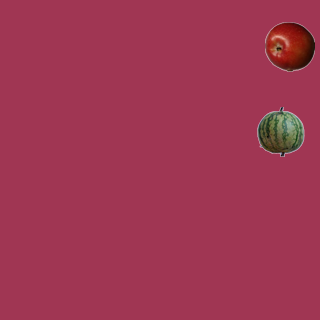Apple Braeburn: (264, 21, 314, 71)
Watermelon: (255, 106, 305, 156)
